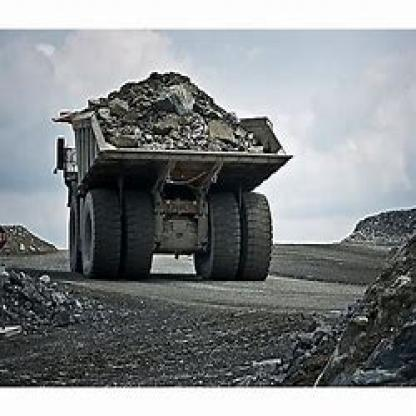dump_truck: (52, 66, 286, 298)
